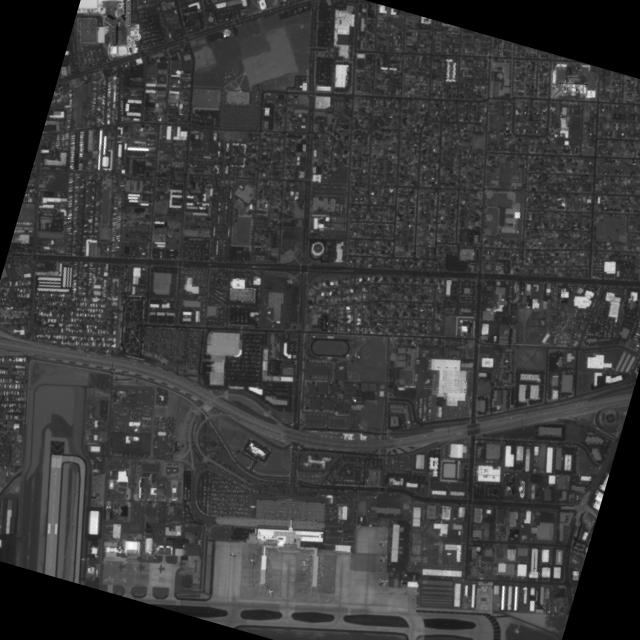plane: (372, 574, 390, 591), (374, 552, 388, 566), (374, 536, 388, 550), (263, 587, 275, 598), (226, 550, 236, 560), (115, 561, 124, 572), (135, 562, 144, 573), (155, 563, 164, 574), (176, 558, 185, 569), (298, 560, 307, 568), (246, 558, 254, 566)
